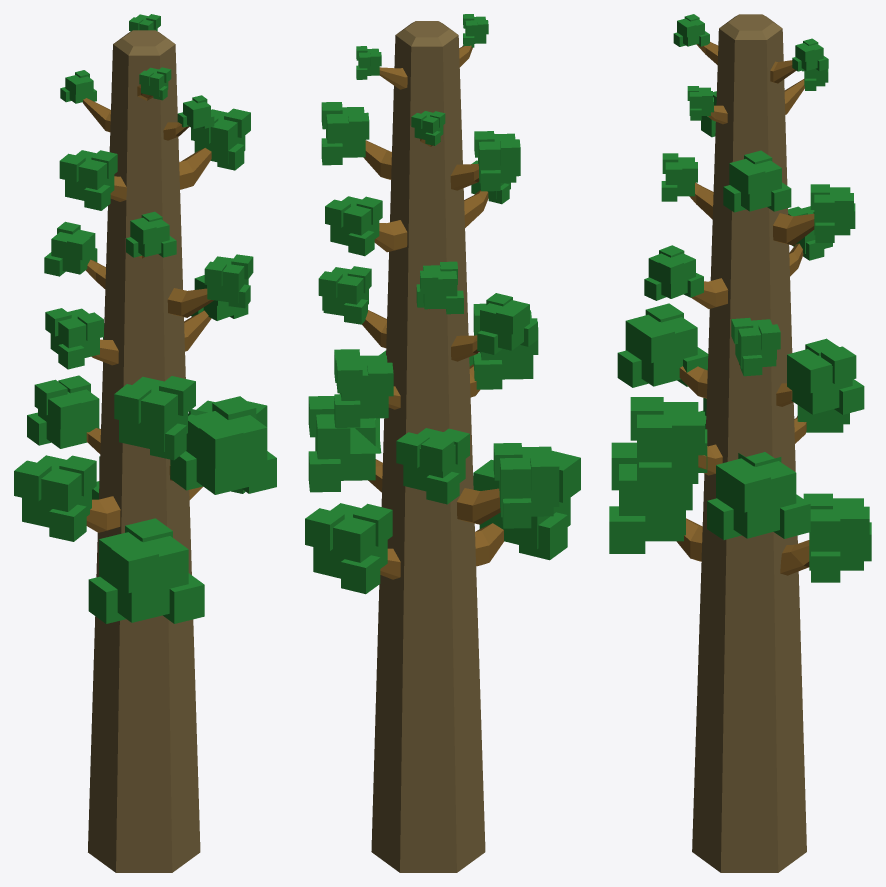
Rendered from Tree3.fbx.
3 views of the same model, side by side, from view 1: azimuth 30°, elevation 25°; view 2: azimuth 150°, elevation 25°; view 3: azimuth 270°, elevation 25° (orthographic). The views are drawn at different scales.
Parts seen in each view (by area): view 1: Cylinder.001; view 2: Cylinder.001; view 3: Cylinder.001.
Part boxes in pixels (box(x1,y1,x2,y2)): Cylinder.001: box(14, 14, 276, 872); Cylinder.001: box(305, 14, 580, 872); Cylinder.001: box(609, 14, 871, 872).
Size of the model in its own units: 4485 by 13925 by 3987.
